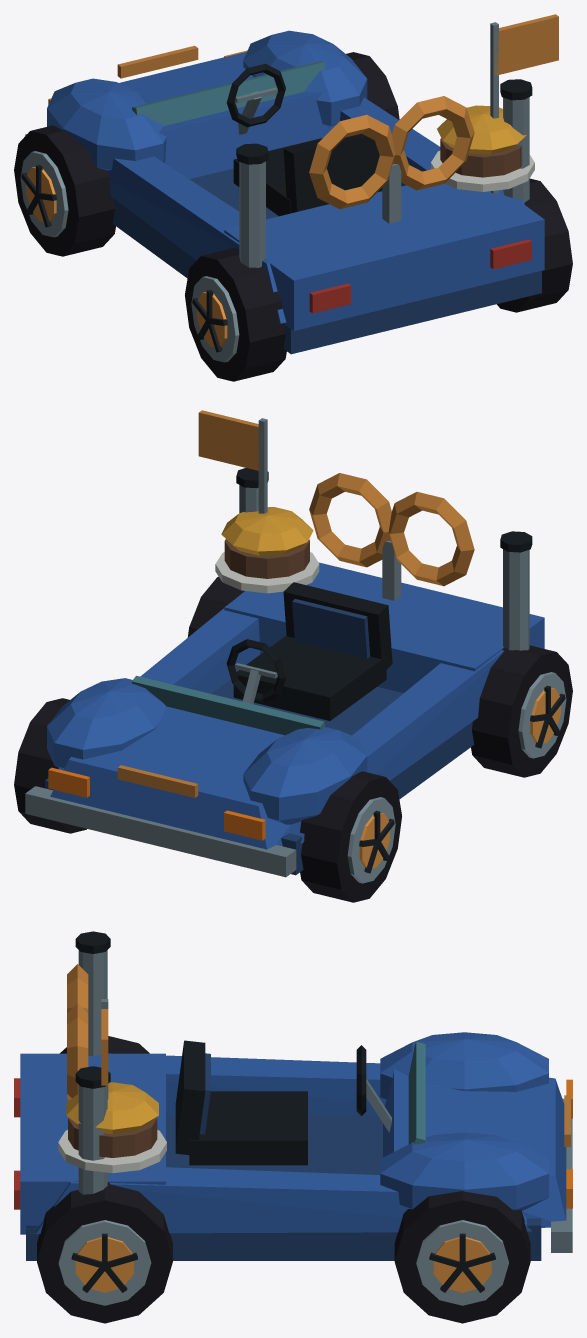
Rendered from kart.glb.
3 renders of one model, top to bottom at view 1: azimuth 30°, elevation 25°; view 2: azimuth 150°, elevation 25°; view 3: azimuth 270°, elevation 25°, orthographic. The views are drawn at different scales.
Visible parts, largest first — view 1: identity-toy-car-toy-rounded-body-and-wind-up-key, wheel-rear-left, wheel-front-left, identity-toy-car-driver-cockpit, identity-toy-car-motif-exhaust, identity-toy-car-motif-food, identity-toy-car-motif-flag, wheel-rear-right, wheel-front-right; view 2: identity-toy-car-toy-rounded-body-and-wind-up-key, identity-toy-car-driver-cockpit, wheel-rear-left, wheel-front-left, identity-toy-car-motif-food, identity-toy-car-motif-exhaust, identity-toy-car-motif-flag, wheel-front-right, wheel-rear-right; view 3: identity-toy-car-toy-rounded-body-and-wind-up-key, wheel-rear-right, wheel-front-right, identity-toy-car-driver-cockpit, identity-toy-car-motif-food, identity-toy-car-motif-exhaust, identity-toy-car-motif-flag, wheel-rear-left.
Part boxes in pixels (x1,y1,x2,y2): identity-toy-car-toy-rounded-body-and-wind-up-key: (25,30,544,354); wheel-rear-left: (185,248,286,381); wheel-front-left: (14,125,115,256); identity-toy-car-driver-cockpit: (226,63,382,216); identity-toy-car-motif-exhaust: (236,79,532,267); identity-toy-car-motif-food: (431,105,534,191); identity-toy-car-motif-flag: (490,14,558,193); wheel-rear-right: (497,178,572,312); wheel-front-right: (346,52,399,119); identity-toy-car-toy-rounded-body-and-wind-up-key: (25,473,544,877); identity-toy-car-driver-cockpit: (226,582,392,720); wheel-rear-left: (471,645,572,777); wheel-front-left: (300,771,401,902); identity-toy-car-motif-food: (215,507,319,593); identity-toy-car-motif-exhaust: (236,468,532,650); identity-toy-car-motif-flag: (198,410,267,513); wheel-front-right: (14,698,86,833); wheel-rear-right: (187,576,244,637); identity-toy-car-toy-rounded-body-and-wind-up-key: (14,964,572,1260); wheel-rear-right: (37,1182,172,1323); wheel-front-right: (394,1191,530,1323); identity-toy-car-driver-cockpit: (175,1040,391,1165); identity-toy-car-motif-food: (58,1082,166,1173); identity-toy-car-motif-exhaust: (75,931,110,1194); identity-toy-car-motif-flag: (101,999,108,1177); wheel-rear-left: (60,1036,149,1053).
Size of the model in its own units: 2.17 by 1.7 by 2.88.
